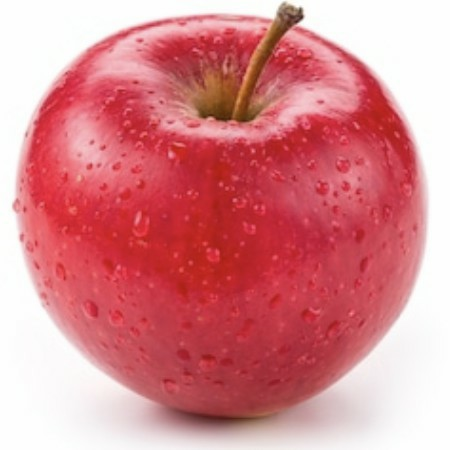fresh_apple: (18, 16, 428, 417)
